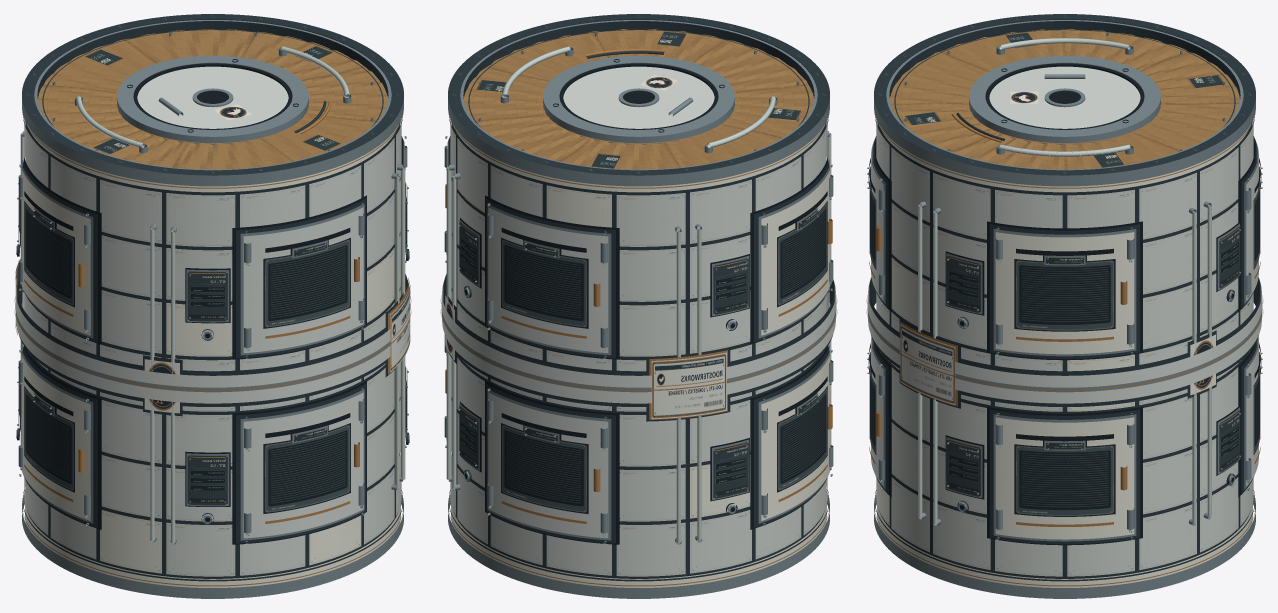
Rendered from RW_LOG_375.obj.
3 renders of one model, left to right at view 1: azimuth 30°, elevation 25°; view 2: azimuth 150°, elevation 25°; view 3: azimuth 270°, elevation 25°, orthographic.
Visible parts, largest first — view 1: RW_Log_cladding, RW_Log_graphite, RW_Log_ceramic, RW_Log_steel, RW_Log_hubblanket, RW_Log_logpanel, RW_Log_white, RW_Log_cladding_white, RW_Log_black, RW_Log_detail, RW_Log_rail, RW_Log_bronze (+2 smaller); view 2: RW_Log_cladding, RW_Log_graphite, RW_Log_ceramic, RW_Log_steel, RW_Log_hubblanket, RW_Log_logpanel, RW_Log_white, RW_Log_black, RW_Log_detail, RW_Log_rail, RW_Log_bronze, RW_Log_loglabel (+2 smaller); view 3: RW_Log_cladding, RW_Log_graphite, RW_Log_steel, RW_Log_hubblanket, RW_Log_white, RW_Log_ceramic, RW_Log_logpanel, RW_Log_black, RW_Log_detail, RW_Log_rail, RW_Log_bronze, RW_Log_cladding_white (+2 smaller).
Part boxes in pixels (x1,y1,x2,y2): RW_Log_cladding: [24, 119, 401, 576]; RW_Log_graphite: [17, 14, 408, 581]; RW_Log_ceramic: [16, 66, 408, 538]; RW_Log_steel: [15, 15, 410, 598]; RW_Log_hubblanket: [37, 29, 388, 169]; RW_Log_logpanel: [24, 201, 350, 513]; RW_Log_white: [21, 124, 404, 587]; RW_Log_cladding_white: [100, 247, 394, 573]; RW_Log_black: [20, 63, 405, 544]; RW_Log_detail: [18, 46, 407, 505]; RW_Log_rail: [20, 46, 405, 543]; RW_Log_bronze: [14, 89, 411, 586]; RW_Log_cladding: [450, 119, 827, 576]; RW_Log_graphite: [443, 14, 834, 581]; RW_Log_ceramic: [442, 66, 835, 538]; RW_Log_steel: [441, 15, 836, 598]; RW_Log_hubblanket: [463, 29, 814, 169]; RW_Log_logpanel: [501, 201, 827, 513]; RW_Log_white: [447, 124, 830, 587]; RW_Log_black: [450, 63, 827, 544]; RW_Log_detail: [459, 31, 817, 498]; RW_Log_rail: [446, 46, 831, 543]; RW_Log_bronze: [440, 49, 837, 586]; RW_Log_loglabel: [651, 352, 726, 419]; RW_Log_cladding: [876, 119, 1253, 576]; RW_Log_graphite: [869, 14, 1260, 581]; RW_Log_steel: [867, 15, 1262, 598]; RW_Log_hubblanket: [889, 29, 1240, 169]; RW_Log_white: [877, 124, 1252, 587]; RW_Log_ceramic: [868, 66, 1261, 485]; RW_Log_logpanel: [869, 174, 1260, 516]; RW_Log_black: [869, 63, 1260, 545]; RW_Log_detail: [868, 32, 1261, 497]; RW_Log_rail: [918, 38, 1211, 523]; RW_Log_bronze: [866, 89, 1263, 586]; RW_Log_cladding_white: [876, 120, 1253, 525].
Size of the model in its own units: 3.82 by 4.5 by 3.82.
Materials: 14 (14 with a texture image).
